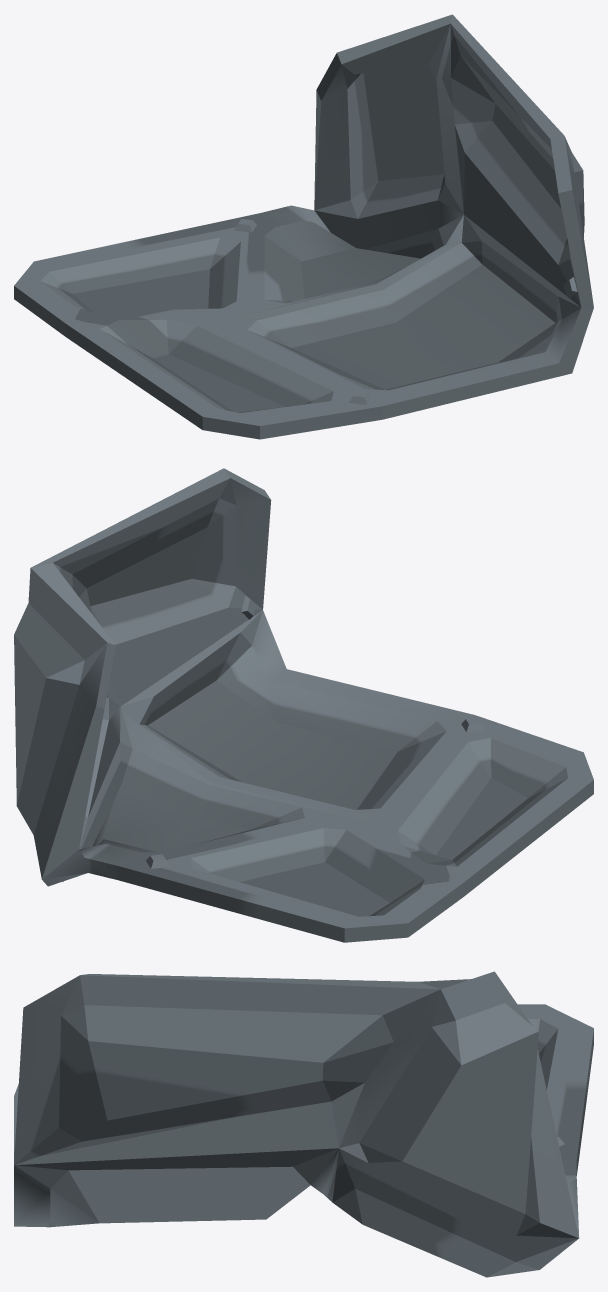
Rendered from SM_Prop_Tray_04.fbx.
The picture shows the model from 3 angles, top to bottom: view 1: azimuth 30°, elevation 25°; view 2: azimuth 150°, elevation 25°; view 3: azimuth 270°, elevation 25°; orthographic projection. The views are drawn at different scales.
Visible parts, largest first — view 1: SM_Prop_Tray_04; view 2: SM_Prop_Tray_04; view 3: SM_Prop_Tray_04.
Part boxes in pixels (box(x1,y1,x2,y2)): SM_Prop_Tray_04: box(14, 14, 593, 439); SM_Prop_Tray_04: box(14, 468, 593, 942); SM_Prop_Tray_04: box(14, 971, 593, 1277).
Bounding box in the file's own units: 43.41 × 26.3 × 43.84.
1 material, 1 textured.
